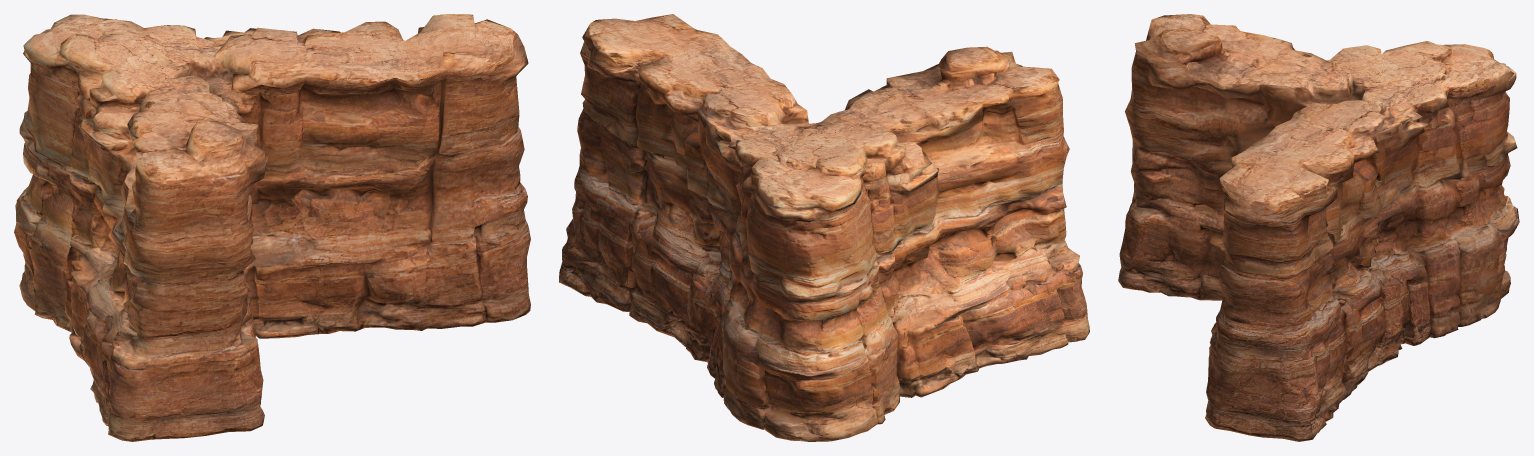
File: sandstone-cliff-corner.glb
3 renders of one model, left to right at view 1: azimuth 30°, elevation 25°; view 2: azimuth 150°, elevation 25°; view 3: azimuth 270°, elevation 25°, orthographic. The views are drawn at different scales.
Visible parts, largest first — view 1: sandstone-cliff-corner; view 2: sandstone-cliff-corner; view 3: sandstone-cliff-corner.
Part boxes in pixels (x1,y1,x2,y2): sandstone-cliff-corner: (14, 14, 530, 441); sandstone-cliff-corner: (559, 14, 1089, 441); sandstone-cliff-corner: (1118, 14, 1519, 441).
Bounding box in the file's own units: 12 × 6.56 × 9.71.
Materials: 1 (1 with a texture image).
